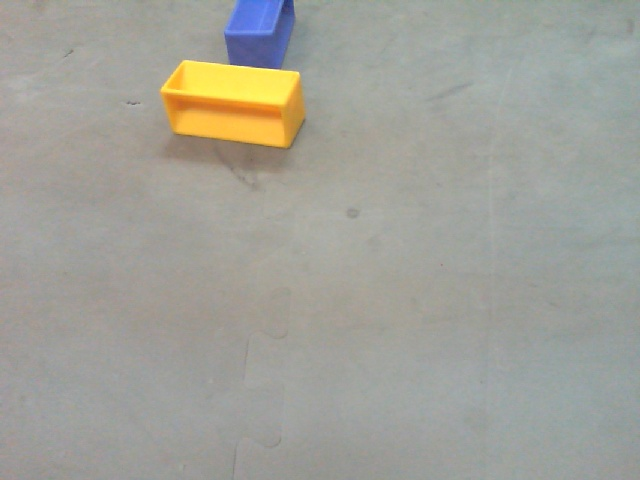BlueSample: (220, 1, 297, 65)
YellowSample: (158, 57, 306, 155)
